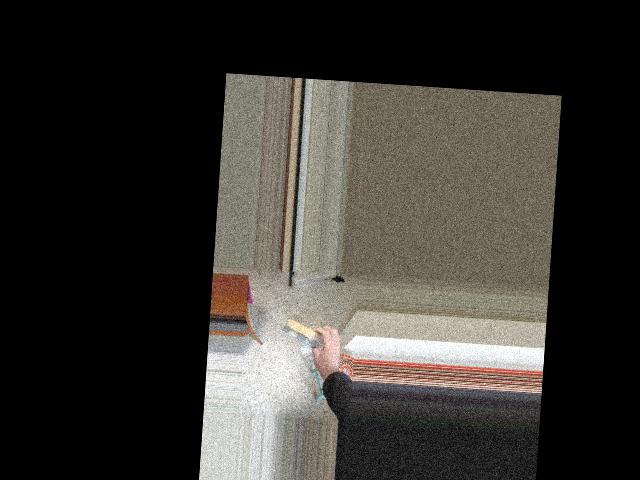cheese: (277, 303, 347, 361)
